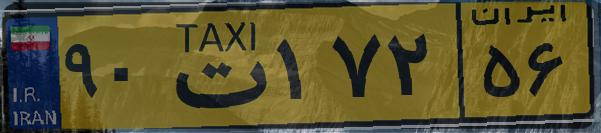0: (110, 28, 158, 98)
1: (270, 28, 330, 110)
2: (385, 28, 445, 110)
5: (475, 38, 525, 113)
6: (525, 38, 570, 115)
7: (330, 28, 385, 110)
9: (57, 26, 110, 100)
ت: (158, 12, 270, 120)
